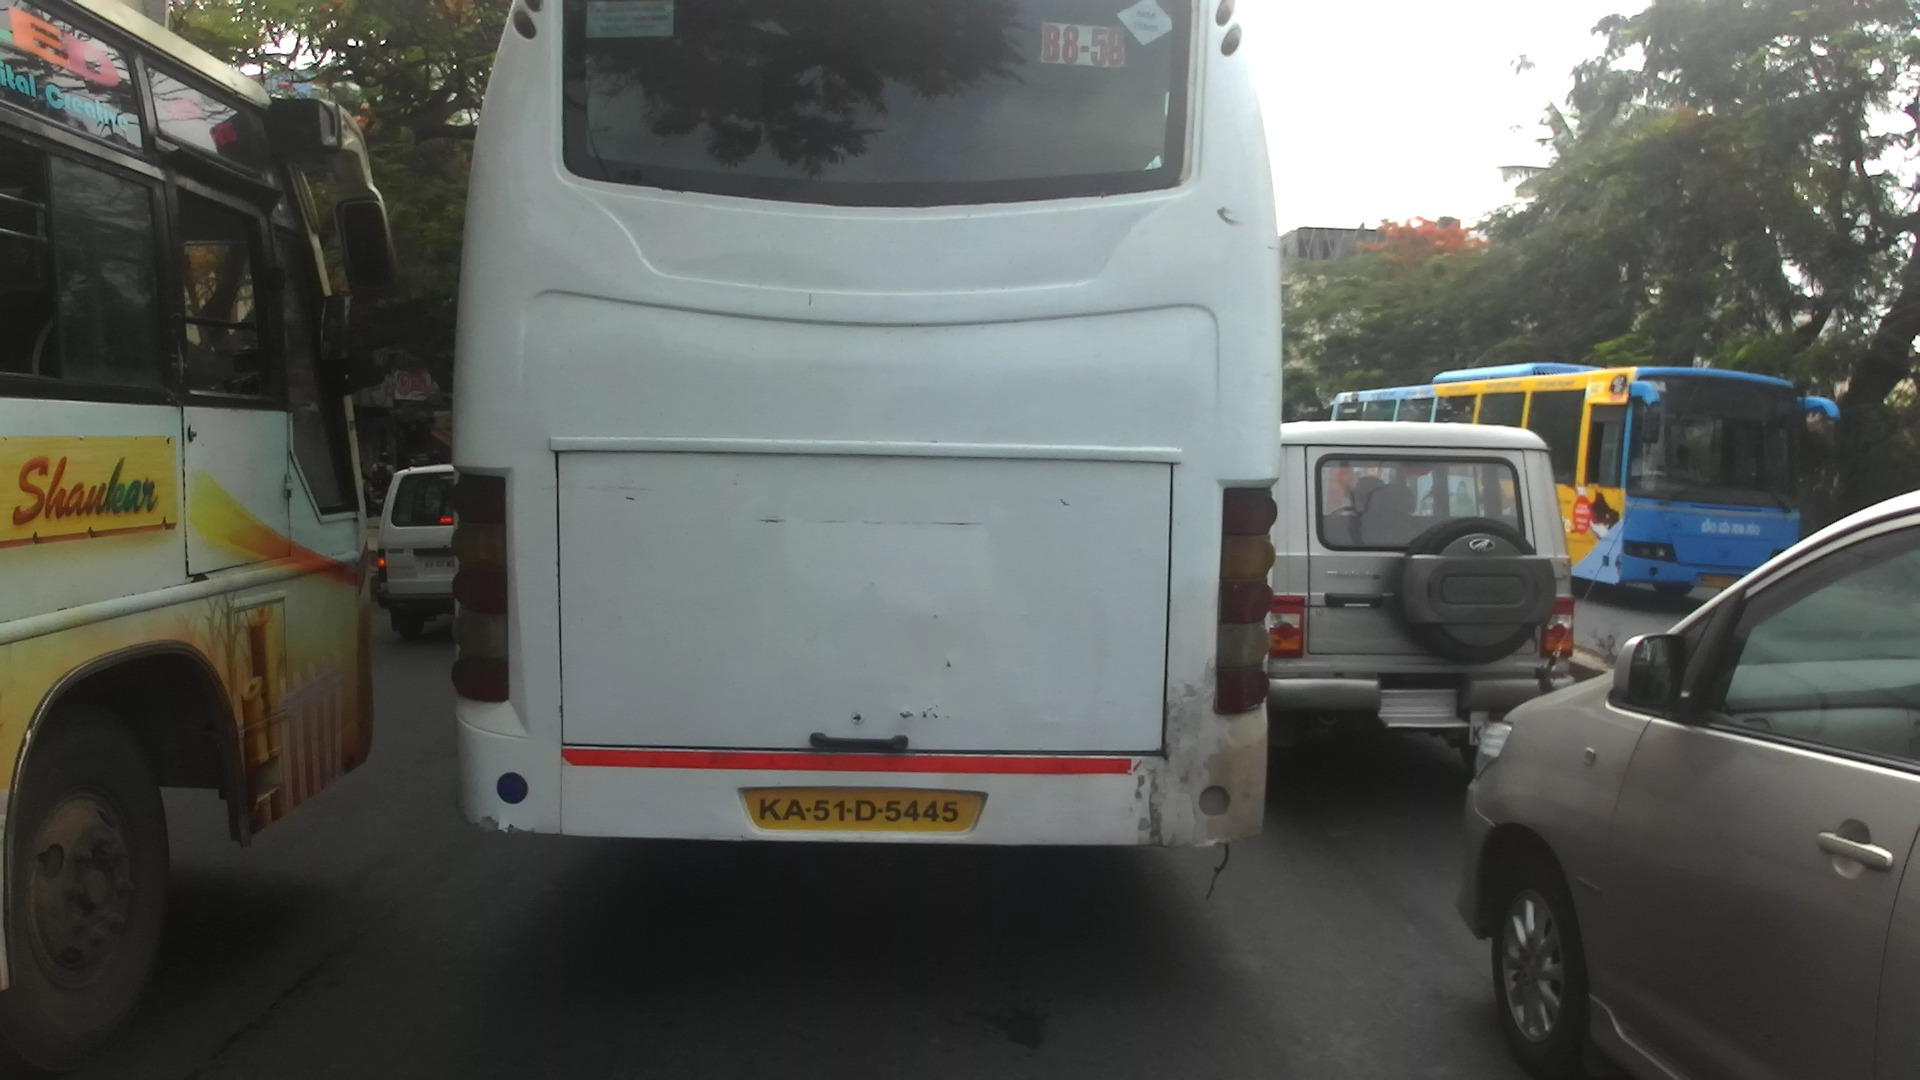bus: (446, 1, 1281, 857), (1, 1, 399, 1080), (1333, 361, 1852, 601)
car: (1459, 485, 1920, 1080), (1275, 418, 1575, 792), (376, 463, 458, 643)
motorcycle: (373, 483, 391, 514)
rider: (372, 450, 395, 494), (425, 449, 438, 471), (398, 457, 421, 468)
vehicle fallback: (360, 465, 372, 517)
